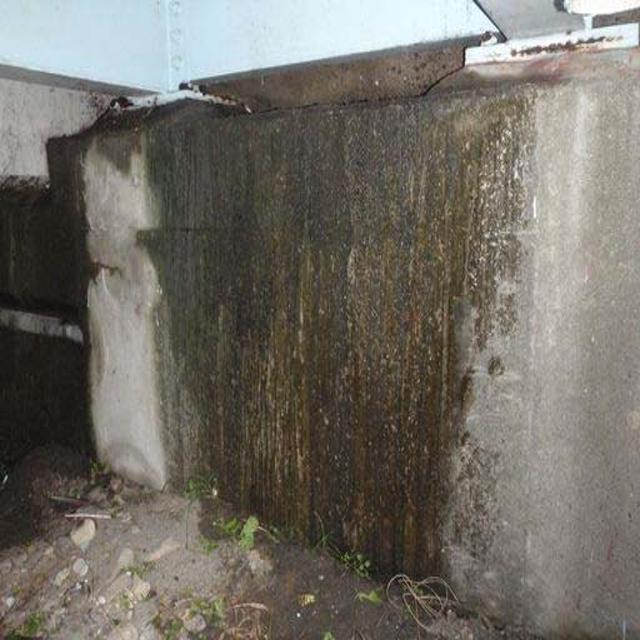leakage: (133, 87, 513, 579)
